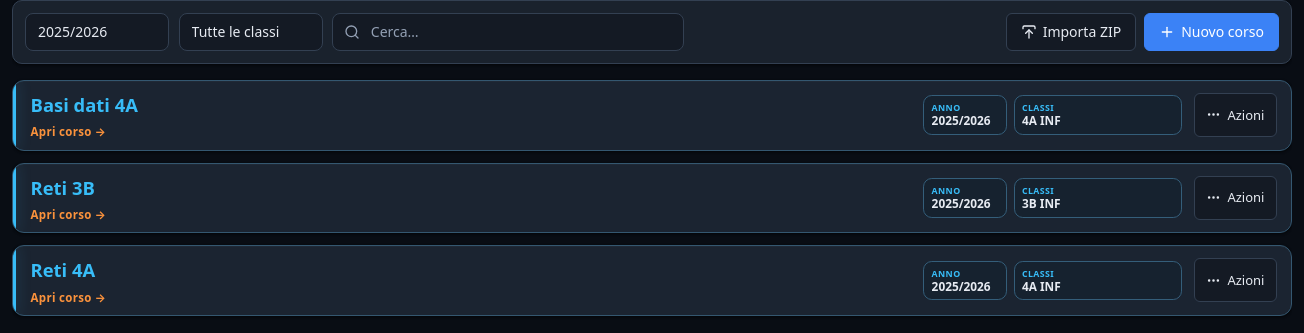
Test: DidatticaView — filters › combines year + class + search filters
Expected: the heading "Reti 4A" is shown, x1=31 y1=257 x2=95 y2=282
Step 1. Select "4A INF" in the dropdown named "Filtro classe" → point(251, 32), box x1=179 y1=13 x2=323 y2=51
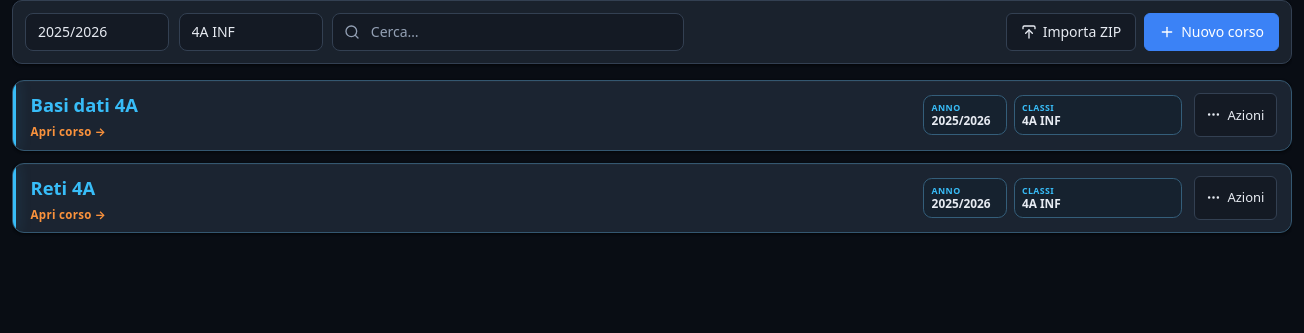
Now the heading "Reti 3B" is gone
// search "reti" → drops "Basi dati 4A"
Step 2. Type "reti" into the search field named "Cerca corso" → point(508, 32), box x1=332 y1=13 x2=684 y2=51
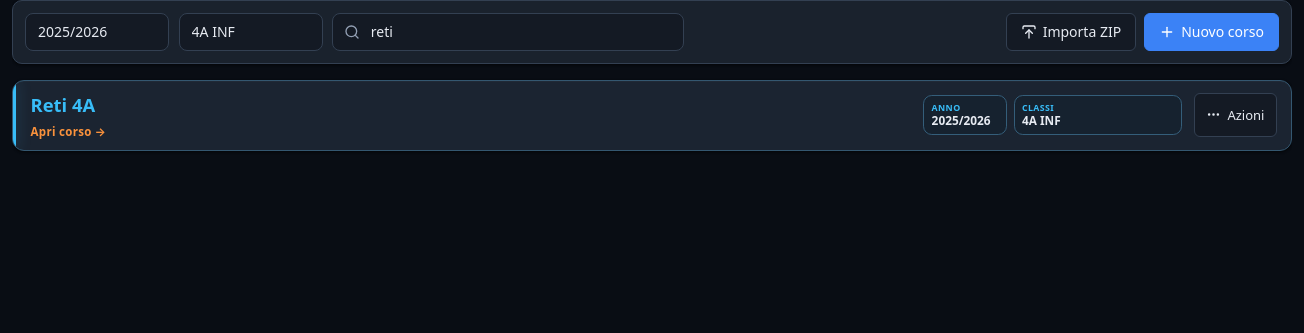
Expected: the heading "Reti 4A" is shown, x1=31 y1=92 x2=95 y2=117
Now the heading "Basi dati 4A" is gone
